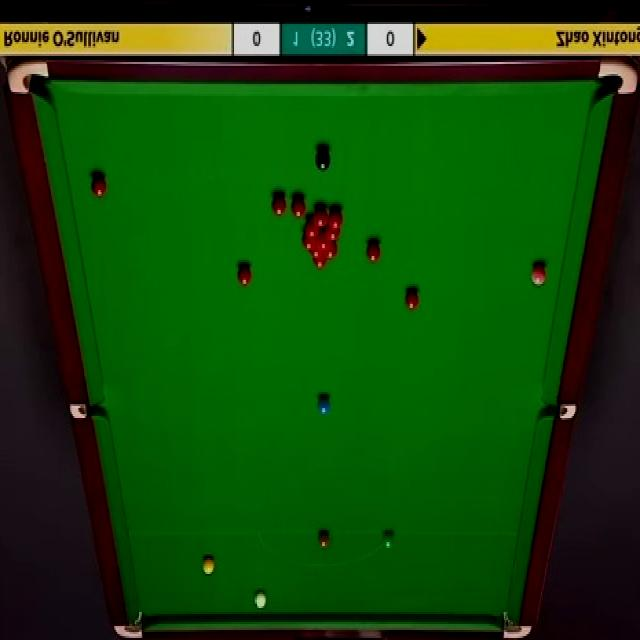black-ball: (315, 144, 331, 174)
blue-ball: (316, 394, 332, 416)
brown-ball: (317, 530, 330, 550)
green-ball: (382, 531, 395, 550)
pink-ball: (531, 262, 547, 288)
red-ball: (290, 192, 307, 220), (236, 261, 253, 288), (90, 172, 107, 198), (270, 194, 286, 218), (328, 205, 343, 230), (366, 240, 381, 264), (405, 288, 420, 312), (304, 218, 319, 239), (314, 205, 328, 227), (323, 241, 338, 260), (315, 234, 330, 252), (302, 234, 316, 252), (326, 227, 340, 240), (313, 258, 328, 269), (308, 249, 324, 259)
white-ball: (253, 587, 266, 609)
yellow-ball: (203, 554, 216, 575)
